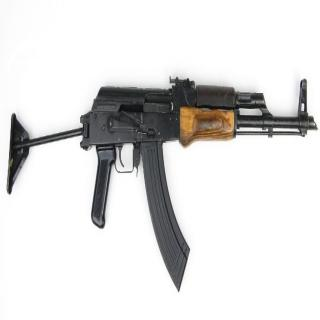gun: (5, 68, 318, 289)
